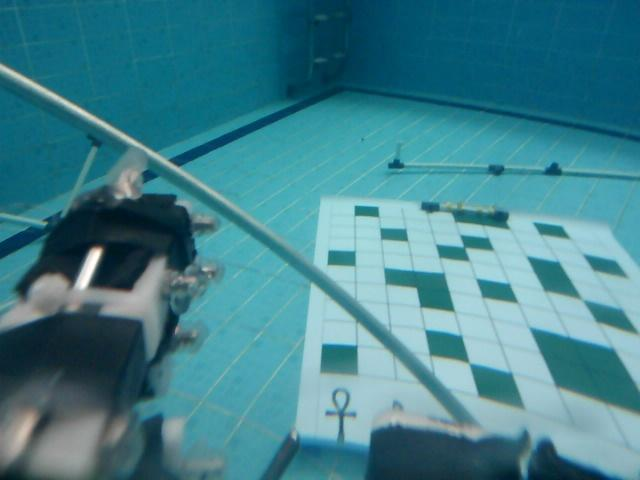Ankh: (326, 377, 356, 449)
